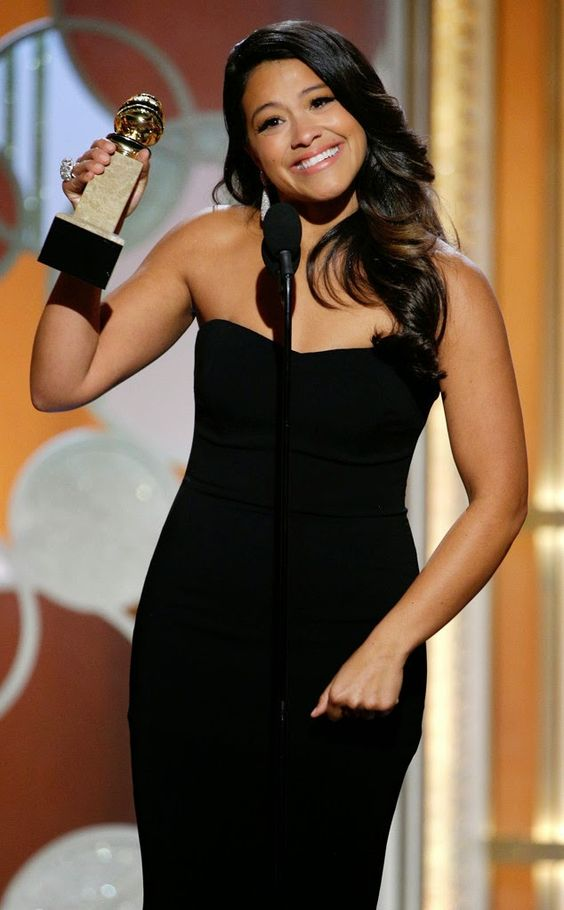hand: (318, 643, 386, 712)
